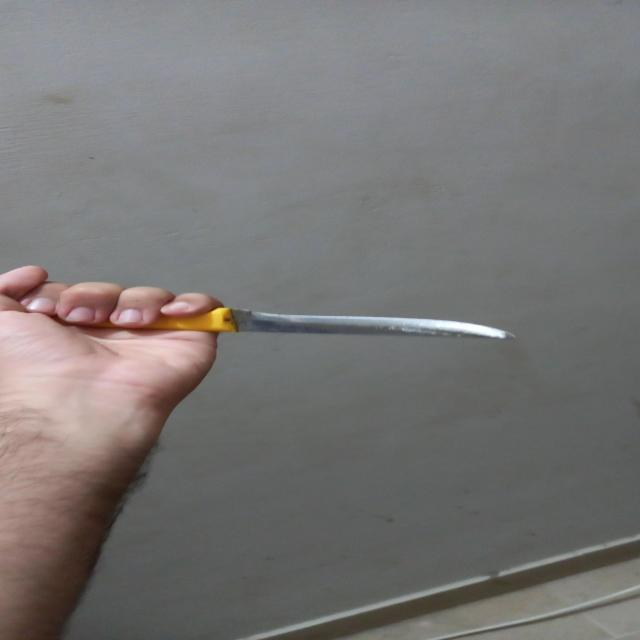faca: (72, 308, 516, 338)
